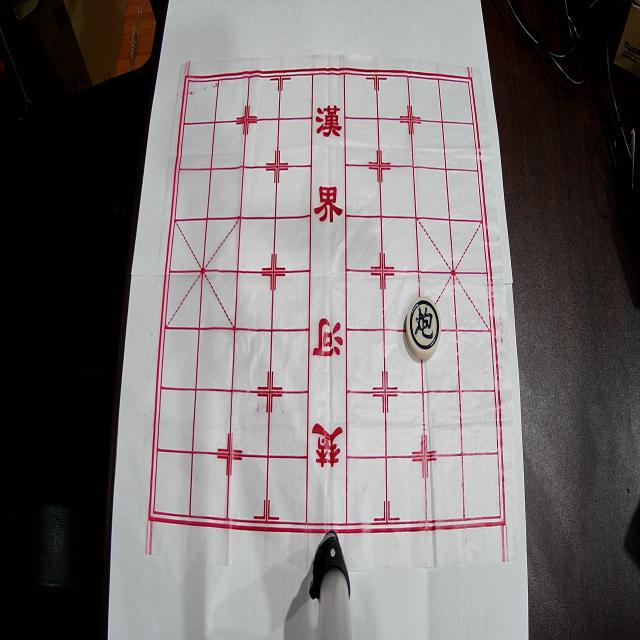black-cannon: (406, 296, 442, 358)
